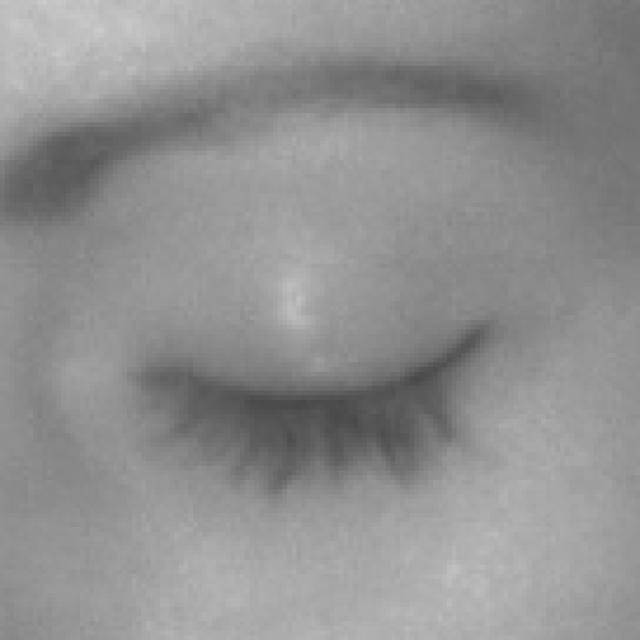Eyeclosed: (145, 207, 507, 550)
